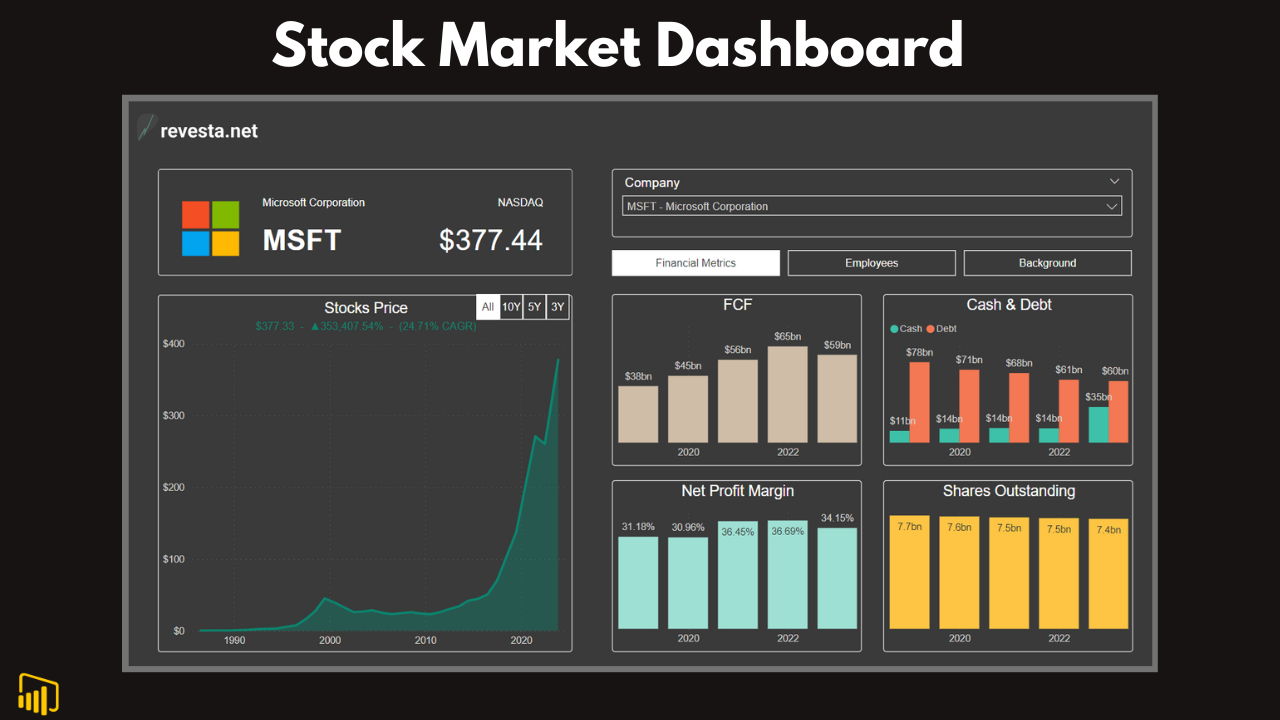

The page's visual inventory and layout, read from the dashboard file:
{"tool":"powerbi","page":{"name":"Page 1","canvas":[1280,720],"ordinal":0},"visuals":[{"type":"actionButton","box":[0,0,164.4,65.2],"z":0},{"type":"shape","box":[36.1,87.4,516.4,132.9],"z":0,"group":"g1"},{"type":"areaChart","title":"Stocks Price","fields":{"Category":["revesta_price_history.Date"],"Y":["Sum(revesta_price_history.Price)"]},"box":[36.1,243.6,516.4,445.3],"z":0,"group":"g2"},{"type":"columnChart","title":"FCF","fields":{"Y":["Sum(revesta_stock_financials.fcf)"],"Category":["revesta_stock_financials.year"]},"box":[601.6,243.6,311.5,214],"z":0,"group":"g3"},{"type":"slicer","fields":{"Values":["profile.Ticker & Company Name"]},"box":[601.8,87.9,647.9,85.2],"z":1000},{"type":"cardVisual","fields":{"Data":["profile.`"]},"box":[49.7,110.2,113.5,90.9],"z":1000,"group":"g1"},{"type":"bookmarkNavigator","box":[432.8,243.2,119.9,32.6],"z":1000,"group":"g2"},{"type":"clusteredColumnChart","title":"Cash & Debt","fields":{"Category":["revesta_stock_financials.year"],"Y":["Sum(revesta_stock_financials.cash)","Sum(revesta_stock_financials.debt)"]},"box":[938.9,243.6,311.5,214],"z":1000,"group":"g3"},{"type":"group","id":"g1","title":"Price Card","box":[36.1,87.4,516.4,132.9],"z":2000},{"type":"cardVisual","fields":{"Data":["Min(profile.company)"]},"box":[149.1,105.1,234.5,38.4],"z":2000,"group":"g1"},{"type":"columnChart","title":"Net Profit Margin","fields":{"Y":["Sum(revesta_stock_financials.net_profit_margin)"],"Category":["revesta_stock_financials.year"]},"box":[601.6,475.6,311.5,214],"z":2000,"group":"g3"},{"type":"cardVisual","fields":{"Data":["Min(profile.exchange)"]},"box":[306.9,105.1,226.7,38.4],"z":3000,"group":"g1"},{"type":"group","id":"g2","title":"Price Chary","box":[36.1,243.2,516.6,445.8],"z":3000},{"type":"columnChart","title":"Shares Outstanding","fields":{"Category":["revesta_stock_financials.year"],"Y":["Sum(revesta_stock_financials.shares_outstanding)"]},"box":[938.9,475.6,311.5,214],"z":3000,"group":"g3"},{"type":"cardVisual","fields":{"Data":["Min(profile.ticker)"]},"box":[149.1,143.5,234.5,58.1],"z":4000,"group":"g1"},{"type":"group","id":"g3","title":"Financial Metrics","box":[601.6,243.6,648.8,446],"z":4000},{"type":"cardVisual","fields":{"Data":["Sum(profile.price)"]},"box":[299.2,143.5,234.5,58.1],"z":5000,"group":"g1"},{"type":"bookmarkNavigator","box":[601.8,188.5,647.9,32.1],"z":7000}]}

Visuals, with their boxes in screenshot pixels (x1, y1, x2, y2), scaled from the page's 1280x720 canvas onto the 1280x720 screenshot:
actionButton: detection(0, 0, 164, 65)
shape: detection(36, 87, 552, 220)
"Stocks Price" areaChart: detection(36, 244, 552, 689)
"FCF" columnChart: detection(602, 244, 913, 458)
slicer - profile.Ticker & Company Name: detection(602, 88, 1250, 173)
cardVisual - profile.`: detection(50, 110, 163, 201)
bookmarkNavigator: detection(433, 243, 553, 276)
"Cash & Debt" clusteredColumnChart: detection(939, 244, 1250, 458)
"Price Card" group: detection(36, 87, 552, 220)
cardVisual - Min(profile.company): detection(149, 105, 384, 144)
"Net Profit Margin" columnChart: detection(602, 476, 913, 690)
cardVisual - Min(profile.exchange): detection(307, 105, 534, 144)
"Price Chary" group: detection(36, 243, 553, 689)
"Shares Outstanding" columnChart: detection(939, 476, 1250, 690)
cardVisual - Min(profile.ticker): detection(149, 144, 384, 202)
"Financial Metrics" group: detection(602, 244, 1250, 690)
cardVisual - Sum(profile.price): detection(299, 144, 534, 202)
bookmarkNavigator: detection(602, 188, 1250, 221)
